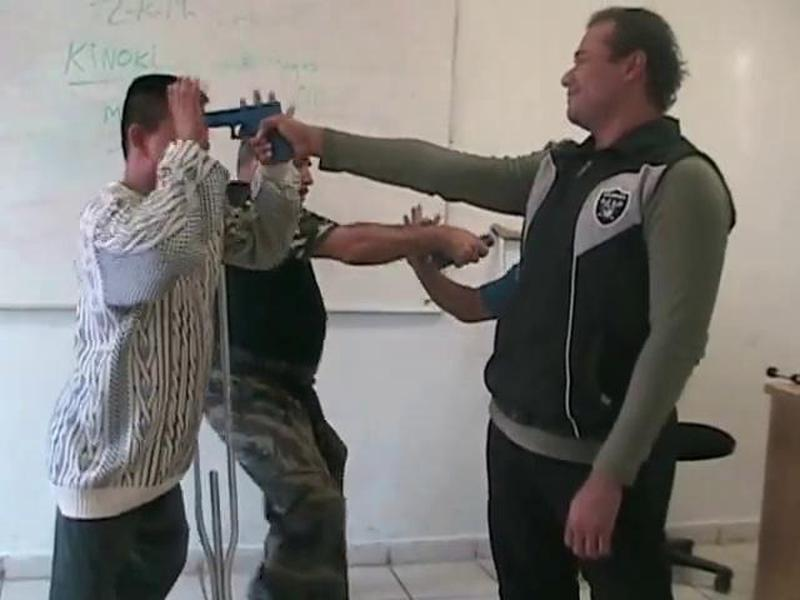Pistola: (193, 88, 303, 171)
